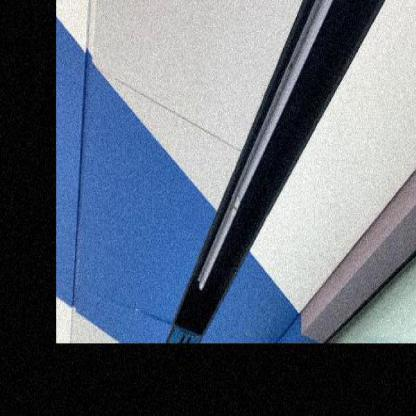light_off: (191, 0, 379, 296)
